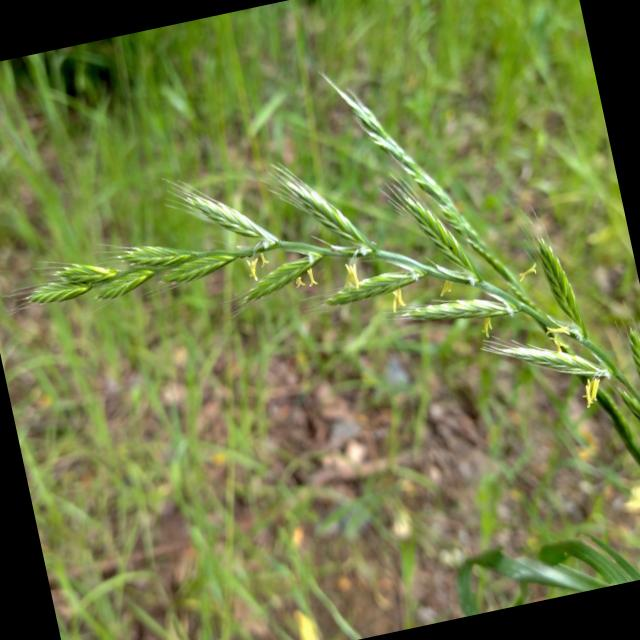Lolium: (0, 88, 640, 596), (318, 13, 640, 622)
